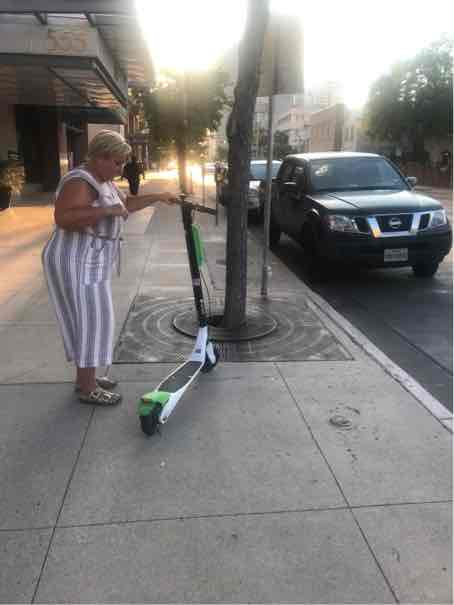scooter: (130, 200, 232, 437)
